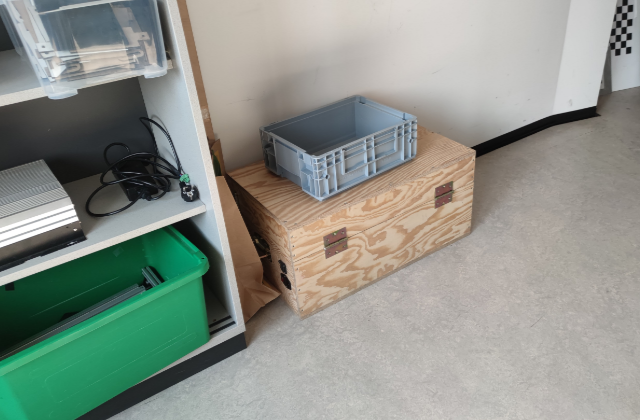Box: (257, 93, 419, 201)
